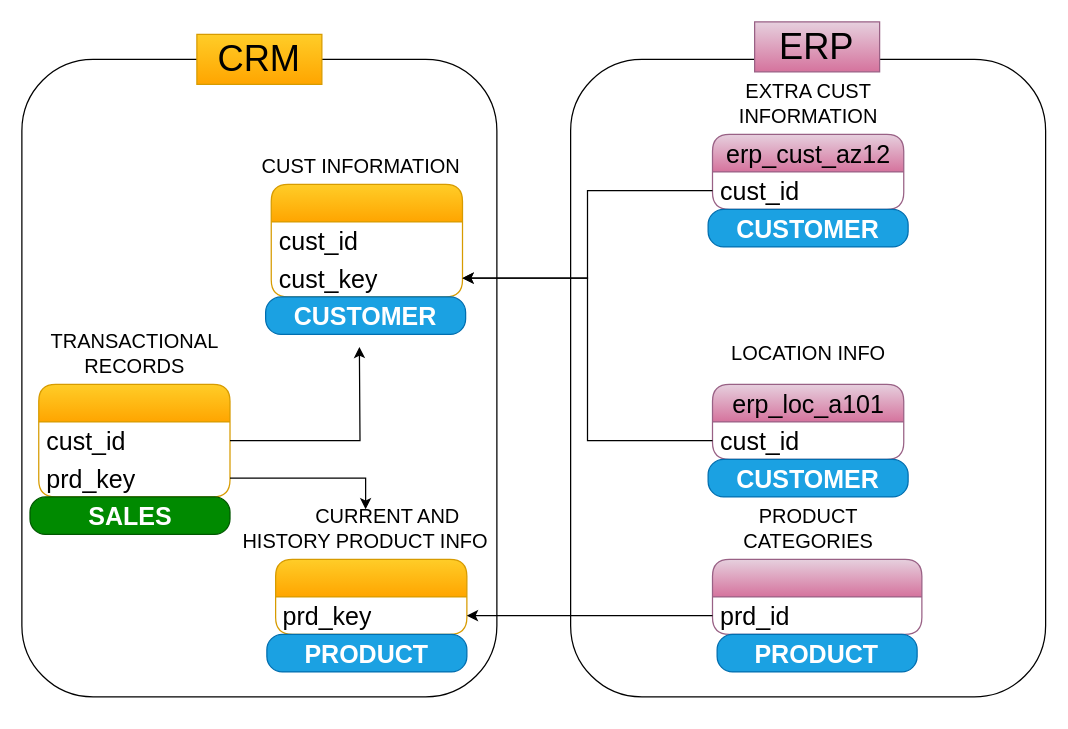
Some shapes in this 1068 by 729 pixel diagram are drawn without their labels. The box of each missing label's shape, as (x1, y1, x2, y2) in pixels:
crm_cust_info: (270, 183, 462, 297)
crm_prd_info: (274, 558, 467, 634)
crm_sales_info: (38, 383, 230, 497)
erp_px_cat_g1v2: (711, 558, 922, 634)
